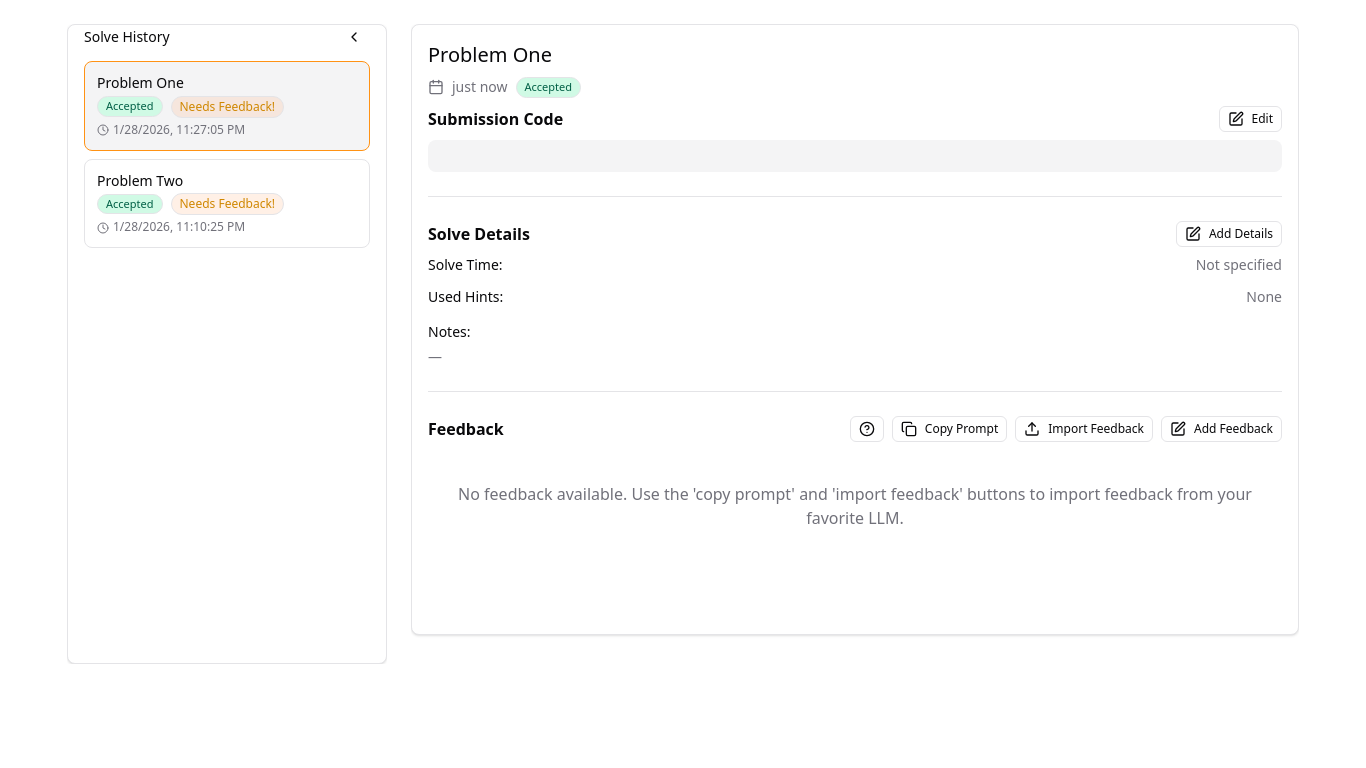
<SolveHistory> › refreshes solves when a solve is saved
Expected: the 1st heading "Problem One" is shown, [428,41,552,68]
Click the 2nd heading "Problem One". click: (140, 82)
box: [97,73,184,92]
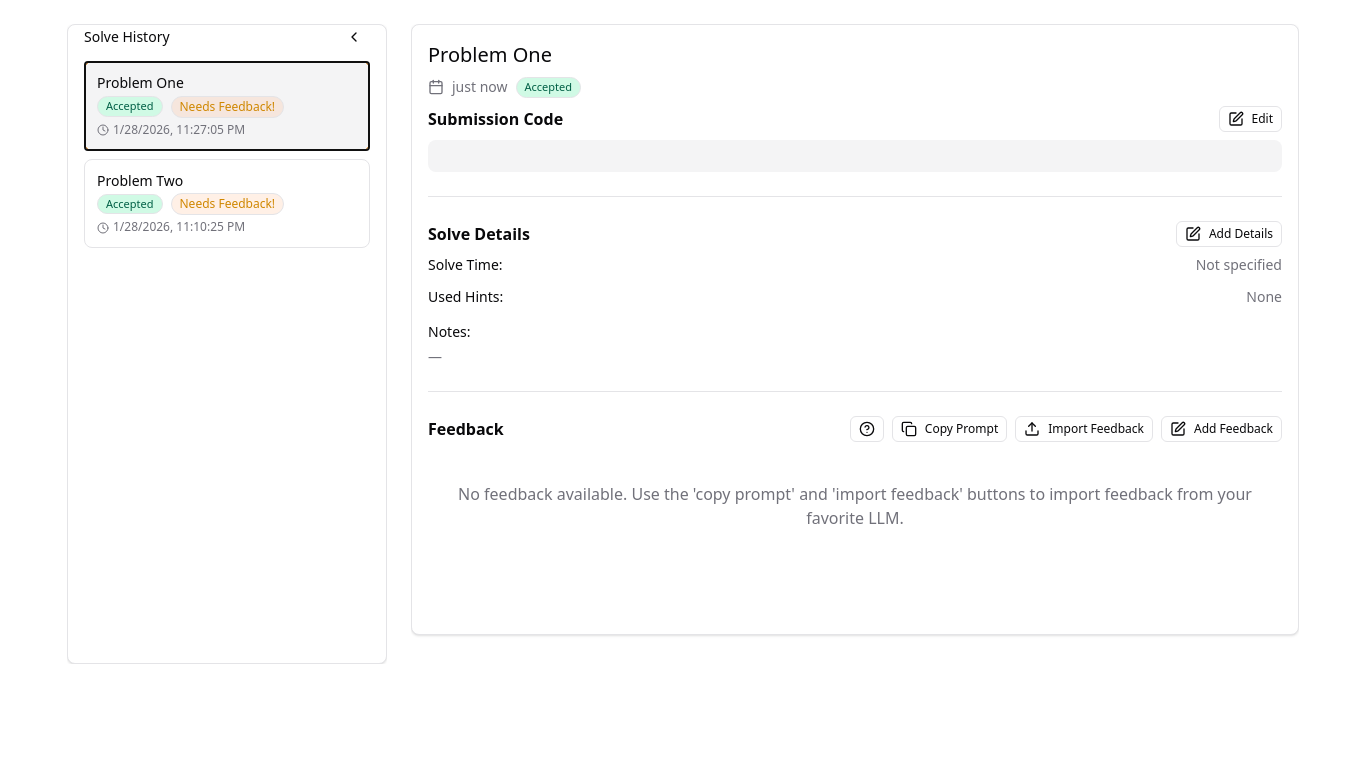
Click the button "Add Details". click: (1229, 234)
box: [1176,221,1282,247]
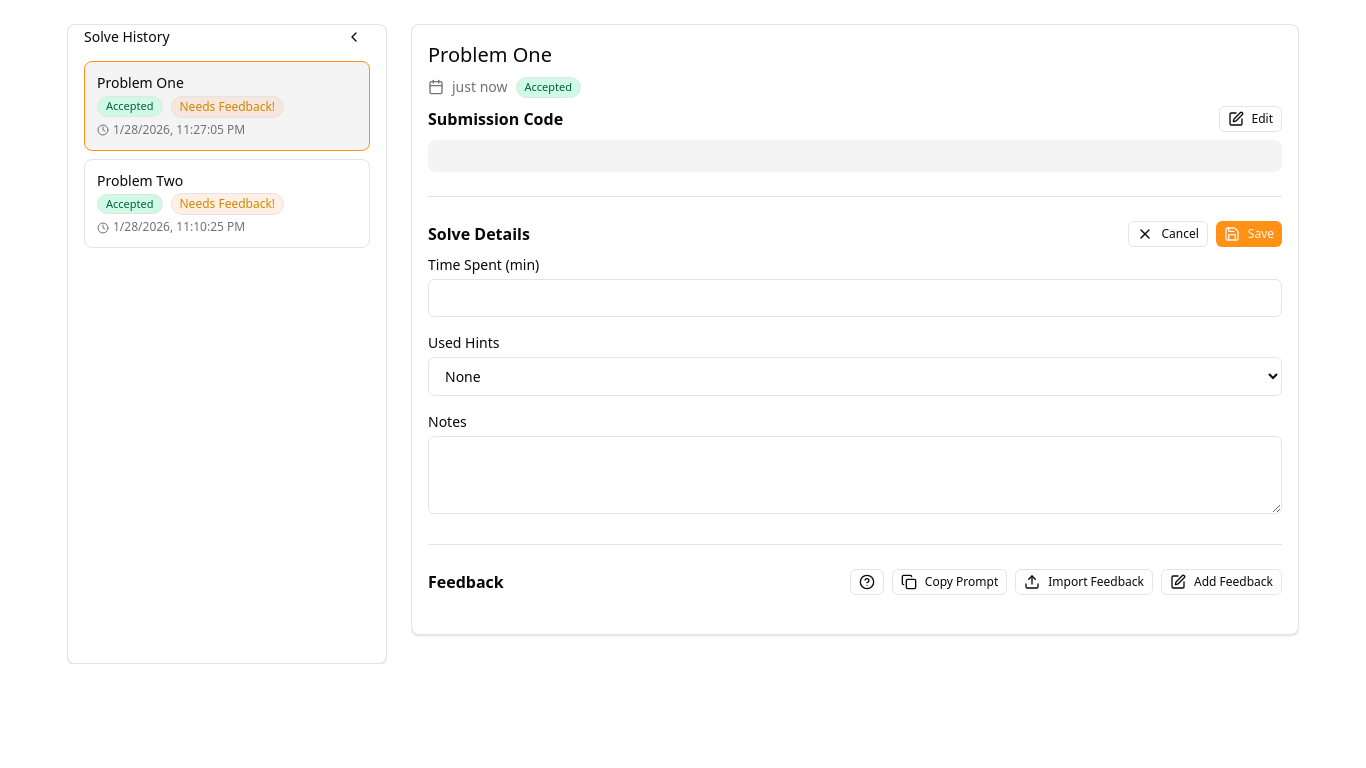
Click the button "Save". click: (1249, 234)
box: [1216,221,1282,247]
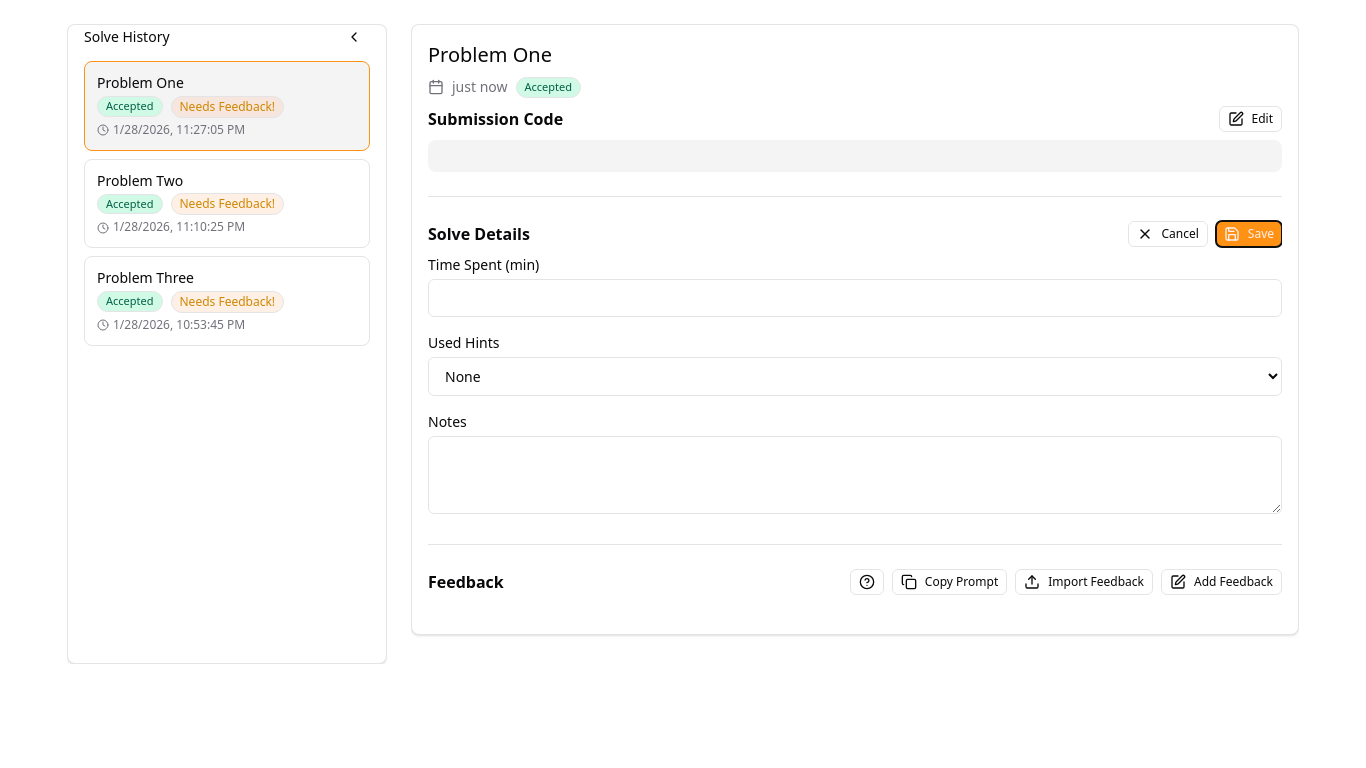
Expected: the heading "Problem Three" is shown, [97,268,194,287]
